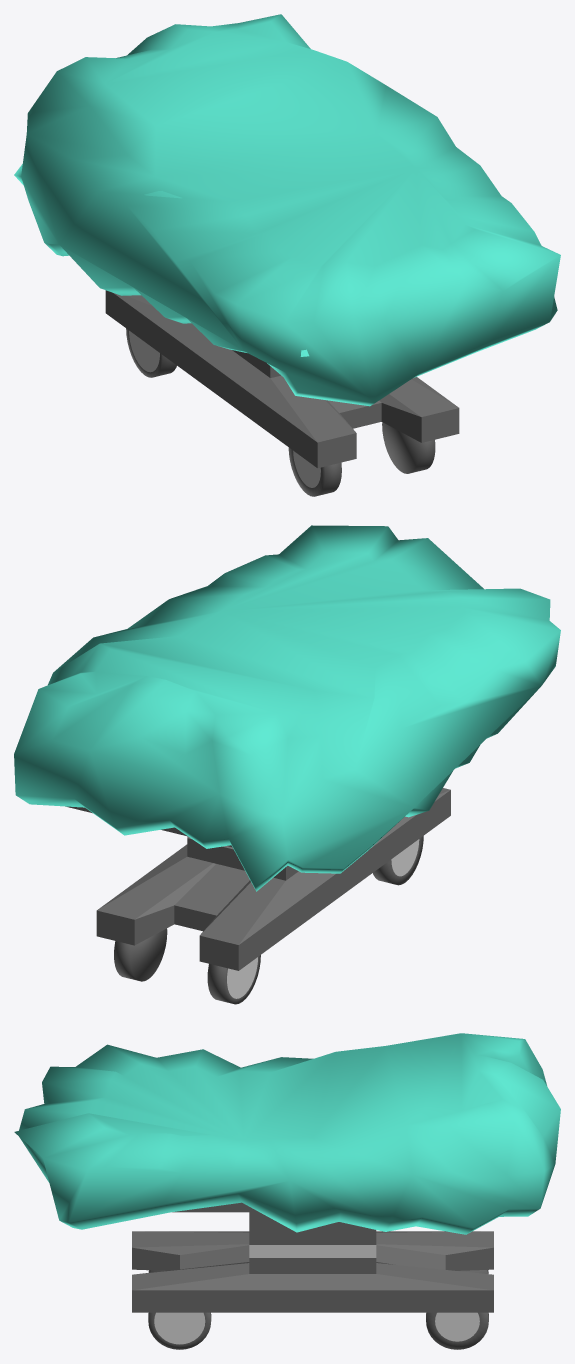
File: hospitalbed.fbx
3 views of the same model, one above another, from view 1: azimuth 30°, elevation 25°; view 2: azimuth 150°, elevation 25°; view 3: azimuth 270°, elevation 25° (orthographic). The views are drawn at different scales.
Parts seen in each view (by area): view 1: Cube; view 2: Cube; view 3: Cube.
Part boxes in pixels (bbox=[...]): Cube: bbox=[14, 14, 560, 496]; Cube: bbox=[14, 525, 560, 1004]; Cube: bbox=[14, 1033, 560, 1349].
Size of the model in its own units: 2285 by 1992 by 3625.
